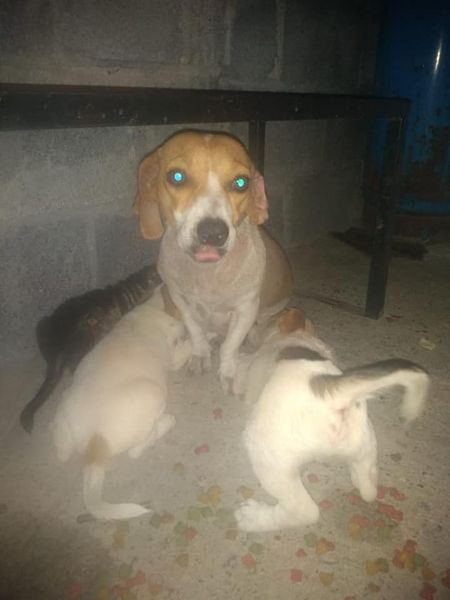dog: (247, 315, 430, 554), (142, 119, 292, 390)
